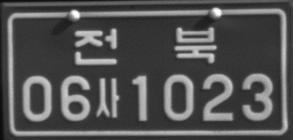0: (22, 74, 53, 122), (163, 72, 194, 120)
1: (127, 74, 155, 121)
2: (202, 72, 234, 122)
3: (241, 73, 273, 121)
6: (60, 74, 91, 121)
사: (94, 77, 119, 119)
전북_D: (74, 27, 217, 65)
